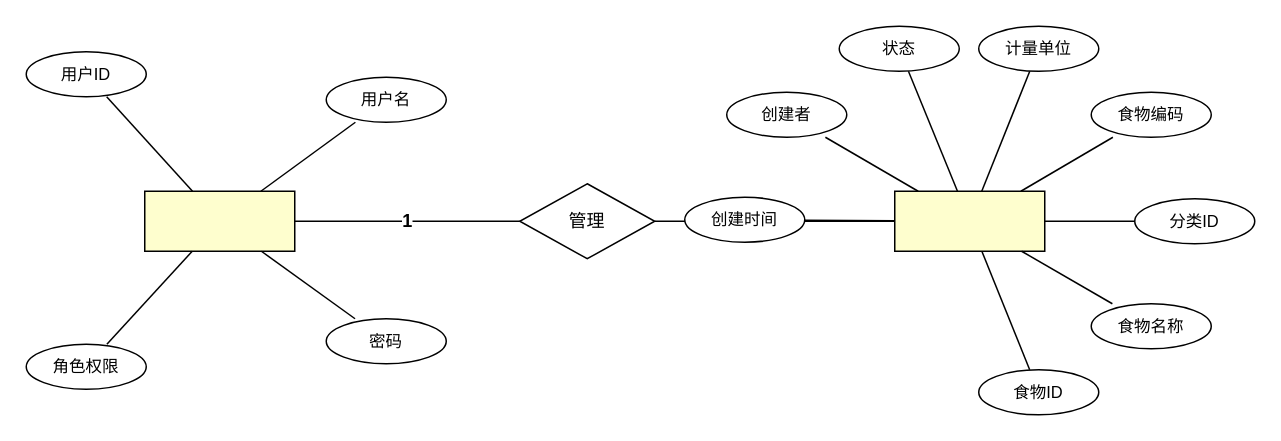
This 1281x441 diagram has some shape labels left out. The centre of each missing label's shape, as x and y in pixels:
"管理员" belongs at pixel 219 220.
"食物信息" belongs at pixel 969 220.
